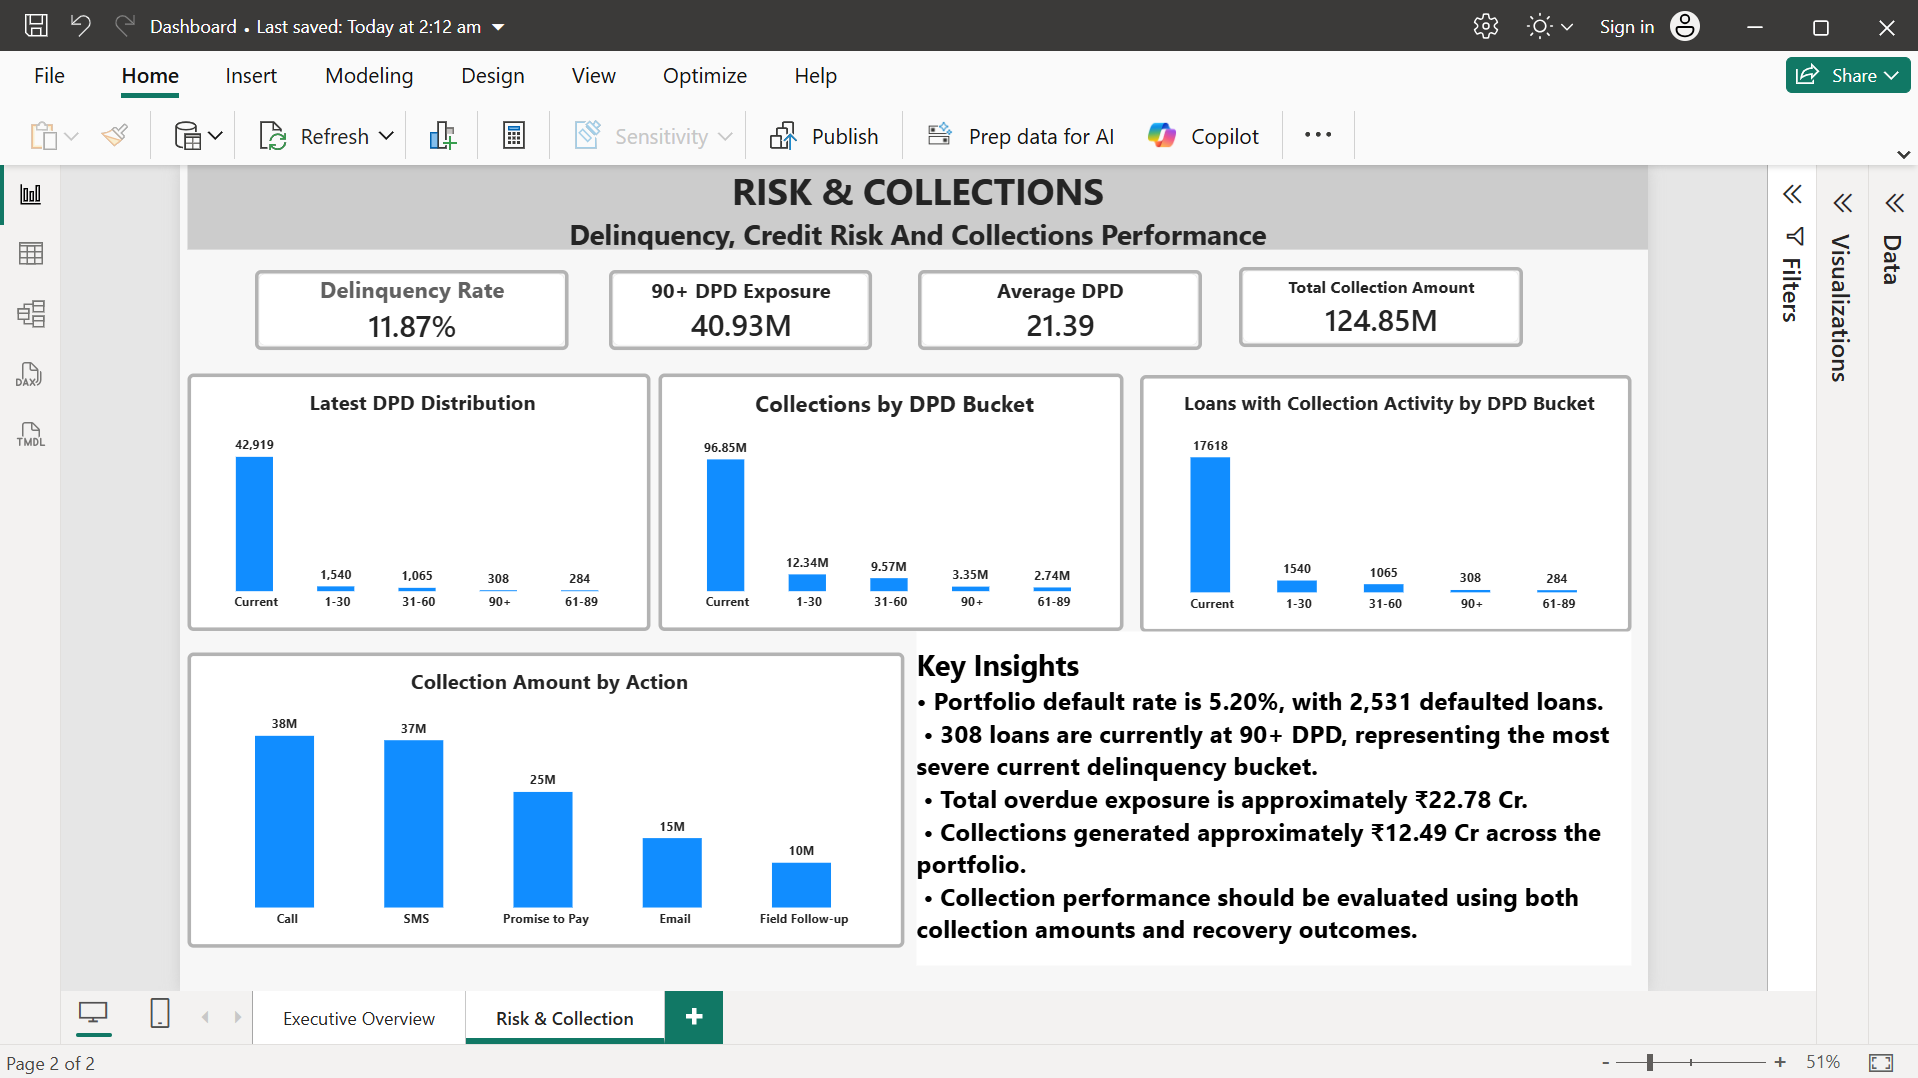

Layout of this report page (visuals, bound fields, positions):
{"tool":"powerbi","page":{"name":"Risk & Collection","canvas":[1920,1080],"ordinal":1},"visuals":[{"type":"shape","title":"RISK & COLLECTIONS","box":[9.8,0,1909.8,110.5],"z":0},{"type":"cardVisual","fields":{"Data":["Fact Loan.Delinquency Rate"]},"box":[97.7,136.7,410.2,105],"z":1000},{"type":"cardVisual","fields":{"Data":["Fact Loan.90+ DPD Exposure"]},"box":[561.6,136.7,344.3,105],"z":2000},{"type":"cardVisual","fields":{"Data":["Fact Loan.Average DPD"]},"box":[964.5,136.7,371.1,105],"z":3000},{"type":"cardVisual","fields":{"Data":["Fact Loan.Total Collection Amount"]},"box":[1384.5,134.3,371.1,105],"z":4000},{"type":"clusteredColumnChart","title":"Latest DPD Distribution","fields":{"Category":["Fact Loan.VW_LOAN_RISK.LATEST_DPD_BUCKET"],"Y":["Fact Loan.Total Loans"]},"box":[9.8,273.5,605.5,337],"z":5000},{"type":"clusteredColumnChart","title":"Collections by DPD Bucket","fields":{"Category":["VW_COLLECTIONS_BY_DPD.DPD_BUCKET"],"Y":["Sum(VW_COLLECTIONS_BY_DPD.TOTAL_AMOUNT_COLLECTED)"]},"box":[625.1,273.5,608,337],"z":6000},{"type":"clusteredColumnChart","title":"Loans with Collection Activity by DPD Bucket","fields":{"Category":["VW_COLLECTIONS_BY_DPD.DPD_BUCKET"],"Y":["Sum(VW_COLLECTIONS_BY_DPD.LOANS_WITH_COLLECTION_ACTIVITY)"]},"box":[1255.5,274,642.8,336.5],"z":7000},{"type":"clusteredColumnChart","title":"Collection Amount by Action","fields":{"Category":["VW_COLLECTIONS_ANALYSIS.COLLECTION_ACTION"],"Y":["Sum(VW_COLLECTIONS_ANALYSIS.TOTAL_AMOUNT_COLLECTED)"]},"box":[9.8,637.3,937.6,385.8],"z":8000},{"type":"textbox","box":[963,610.5,934.9,436.8],"z":9000}]}

Visuals, with their boxes on the page's 1920x1080 design canvas (x1, y1, x2, y2). These are canvas units, not pixel positions in the 1918x1078 screenshot, which may show the page scaled, cropped or inside an application window:
"RISK & COLLECTIONS" shape: box=[10, 0, 1920, 110]
cardVisual - Fact Loan.Delinquency Rate: box=[98, 137, 508, 242]
cardVisual - Fact Loan.90+ DPD Exposure: box=[562, 137, 906, 242]
cardVisual - Fact Loan.Average DPD: box=[964, 137, 1336, 242]
cardVisual - Fact Loan.Total Collection Amount: box=[1384, 134, 1756, 239]
"Latest DPD Distribution" clusteredColumnChart: box=[10, 274, 615, 610]
"Collections by DPD Bucket" clusteredColumnChart: box=[625, 274, 1233, 610]
"Loans with Collection Activity by DPD Bucket" clusteredColumnChart: box=[1256, 274, 1898, 610]
"Collection Amount by Action" clusteredColumnChart: box=[10, 637, 947, 1023]
textbox: box=[963, 610, 1898, 1047]
